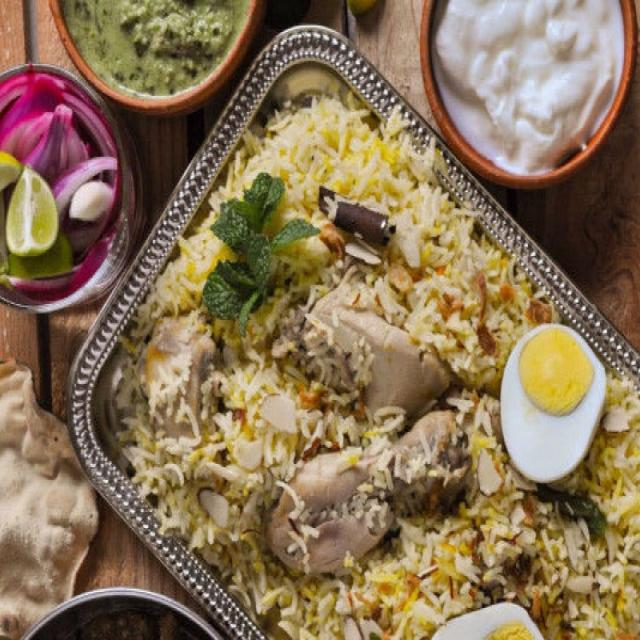Biryani: (113, 86, 640, 639)
